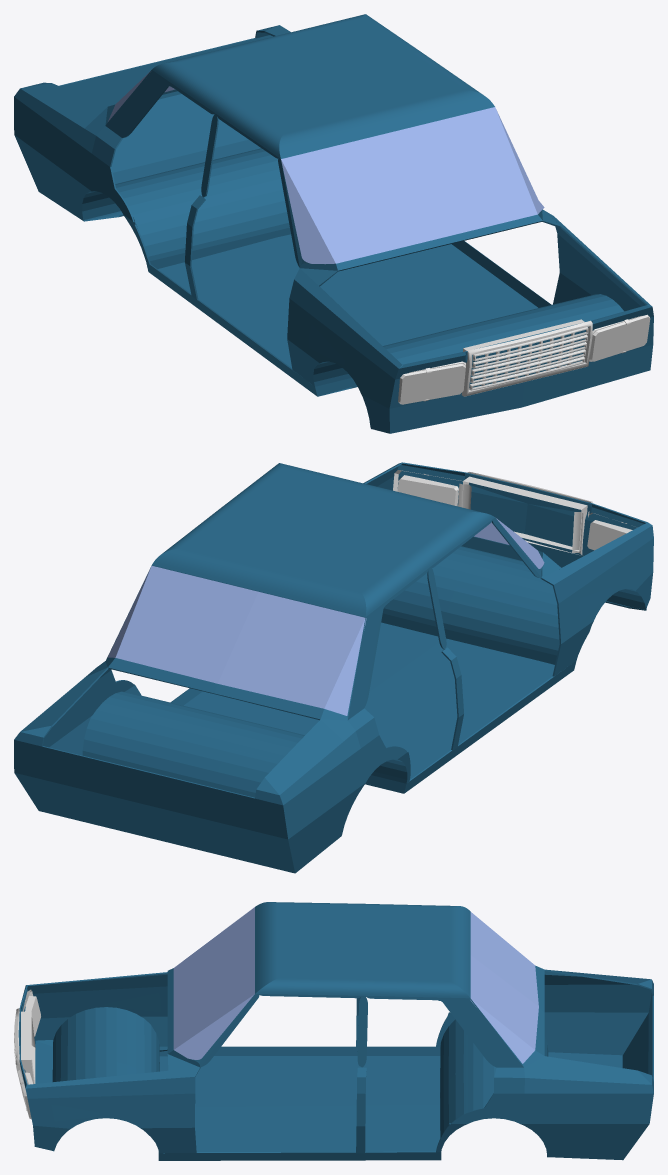
The picture shows the model from 3 angles, top to bottom: view 1: azimuth 30°, elevation 25°; view 2: azimuth 150°, elevation 25°; view 3: azimuth 270°, elevation 25°; orthographic projection. The views are drawn at different scales.
Parts seen in each view (by area): view 1: base, radiator; view 2: base, radiator; view 3: base, radiator.
Boxes of the visible parts, x1=… form: base: x1=14, y1=14, x2=653, y2=433; radiator: x1=398, y1=314, x2=650, y2=404; base: x1=14, y1=462, x2=653, y2=873; radiator: x1=393, y1=470, x2=632, y2=554; base: x1=18, y1=902, x2=653, y2=1160; radiator: x1=14, y1=989, x2=40, y2=1118.
Bounding box in the file's own units: 195 × 135 × 469.
